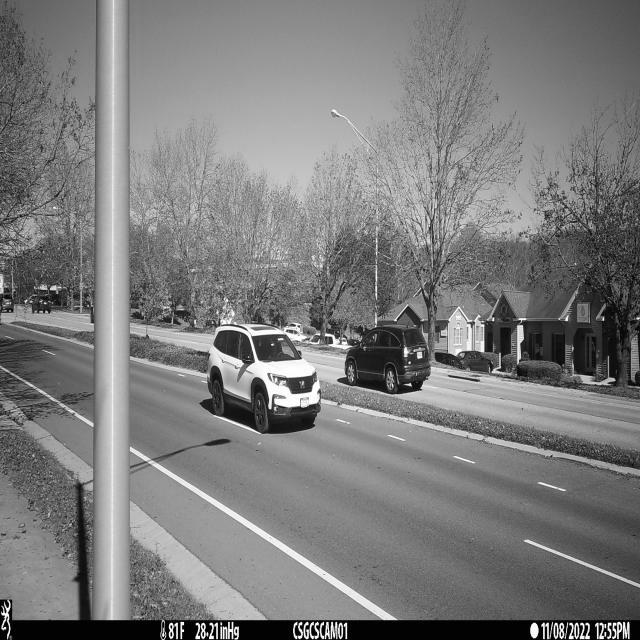SUV: (207, 322, 321, 434)
